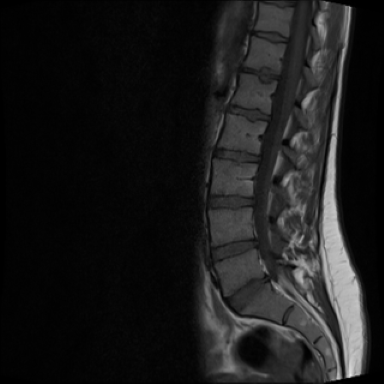Degenerative Disc Disease (DDD): (235, 63, 285, 86)
Lumbar Disc Bulge (LDB): (218, 268, 274, 320), (206, 233, 261, 270)
Normal IVD: (203, 144, 263, 167), (220, 101, 275, 125), (202, 189, 261, 211), (250, 28, 291, 47)
Spinal Stenosis (SS): (257, 260, 281, 290), (249, 230, 268, 255)
